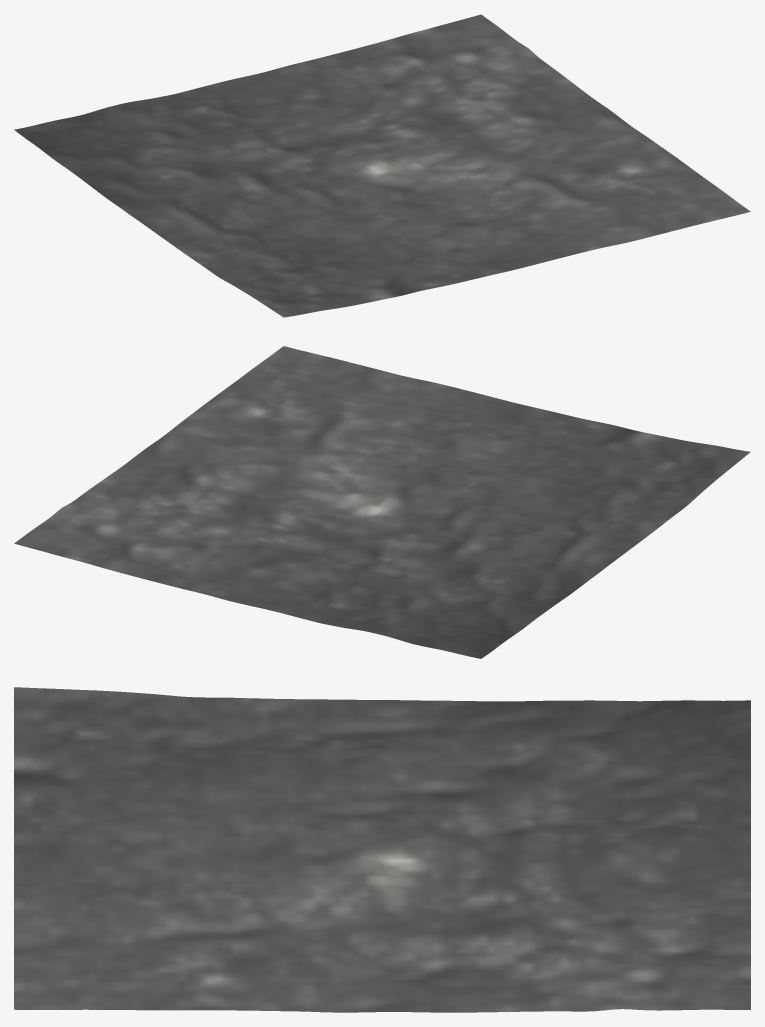
3 views of the same model, one above another, from view 1: azimuth 30°, elevation 25°; view 2: azimuth 150°, elevation 25°; view 3: azimuth 270°, elevation 25° (orthographic). The views are drawn at different scales.
Size of the model in its own units: 80 by 2.27 by 80.
Materials: 1 (1 with a texture image).
